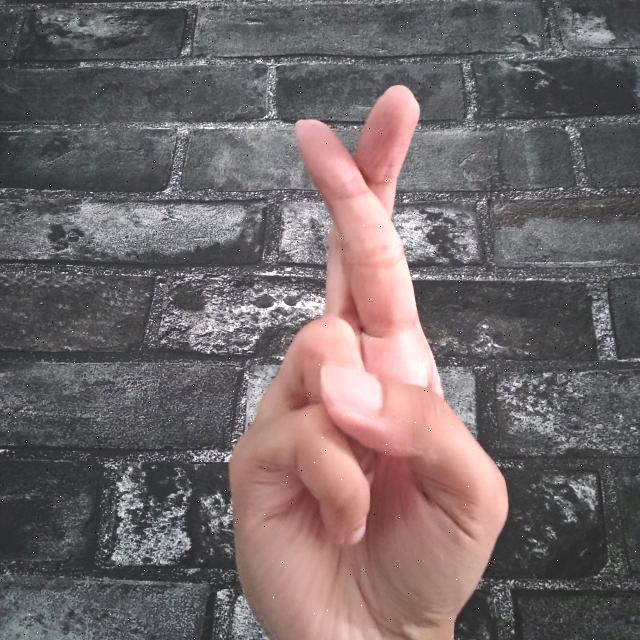R: (217, 79, 514, 640)
